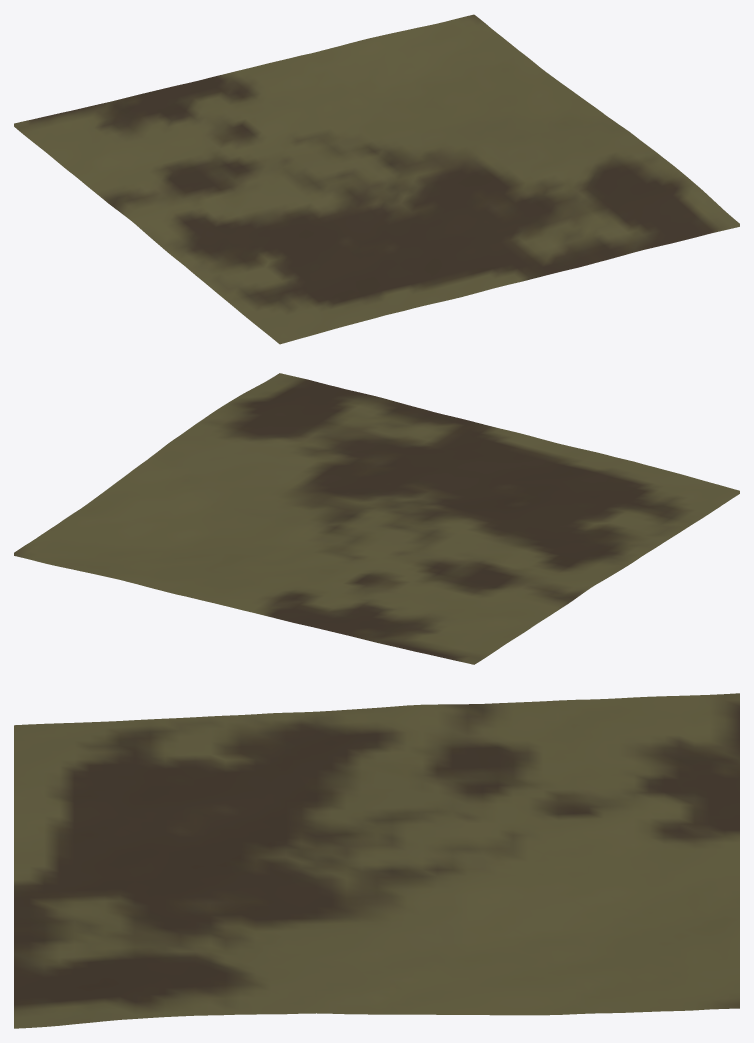
Rendered from land_m_12_07.glb.
The picture shows the model from 3 angles, top to bottom: view 1: azimuth 30°, elevation 25°; view 2: azimuth 150°, elevation 25°; view 3: azimuth 270°, elevation 25°; orthographic projection. The views are drawn at different scales.
Parts seen in each view (by area): view 1: land_m_12_07; view 2: land_m_12_07; view 3: land_m_12_07.
Boxes of the visible parts, x1,y1,x2,y2 form: land_m_12_07: (14,14,739,344); land_m_12_07: (14,373,739,664); land_m_12_07: (14,693,739,1028).
Size of the model in its own units: 960 by 52.67 by 960.
